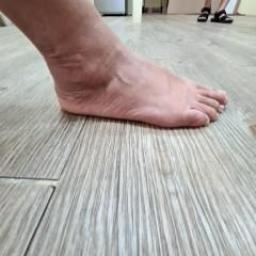Lateral View -Right Foot-: (22, 20, 244, 158)
